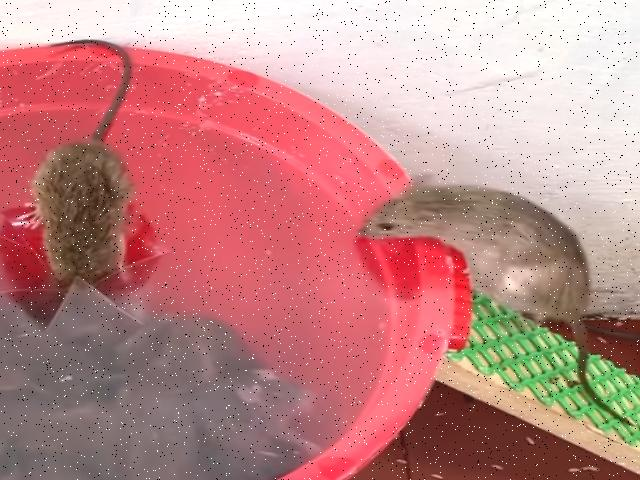Tikus: (356, 176, 634, 424), (11, 37, 135, 287)
